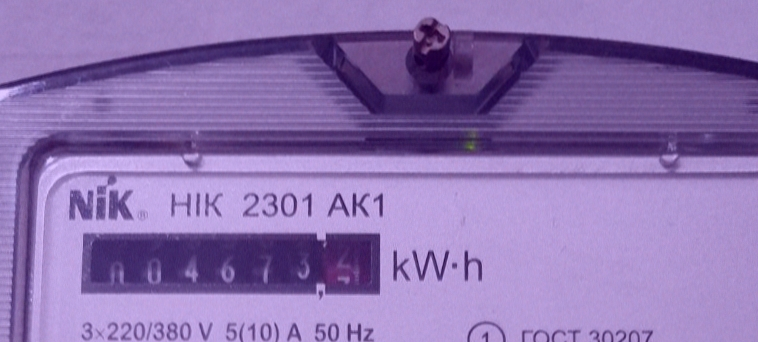0: (105, 257, 125, 287), (143, 255, 161, 286)
2: (332, 239, 352, 272)
3: (293, 248, 310, 282)
4: (181, 251, 199, 286)
6: (215, 251, 236, 285)
7: (253, 251, 275, 288)
screen: (75, 228, 384, 305)
